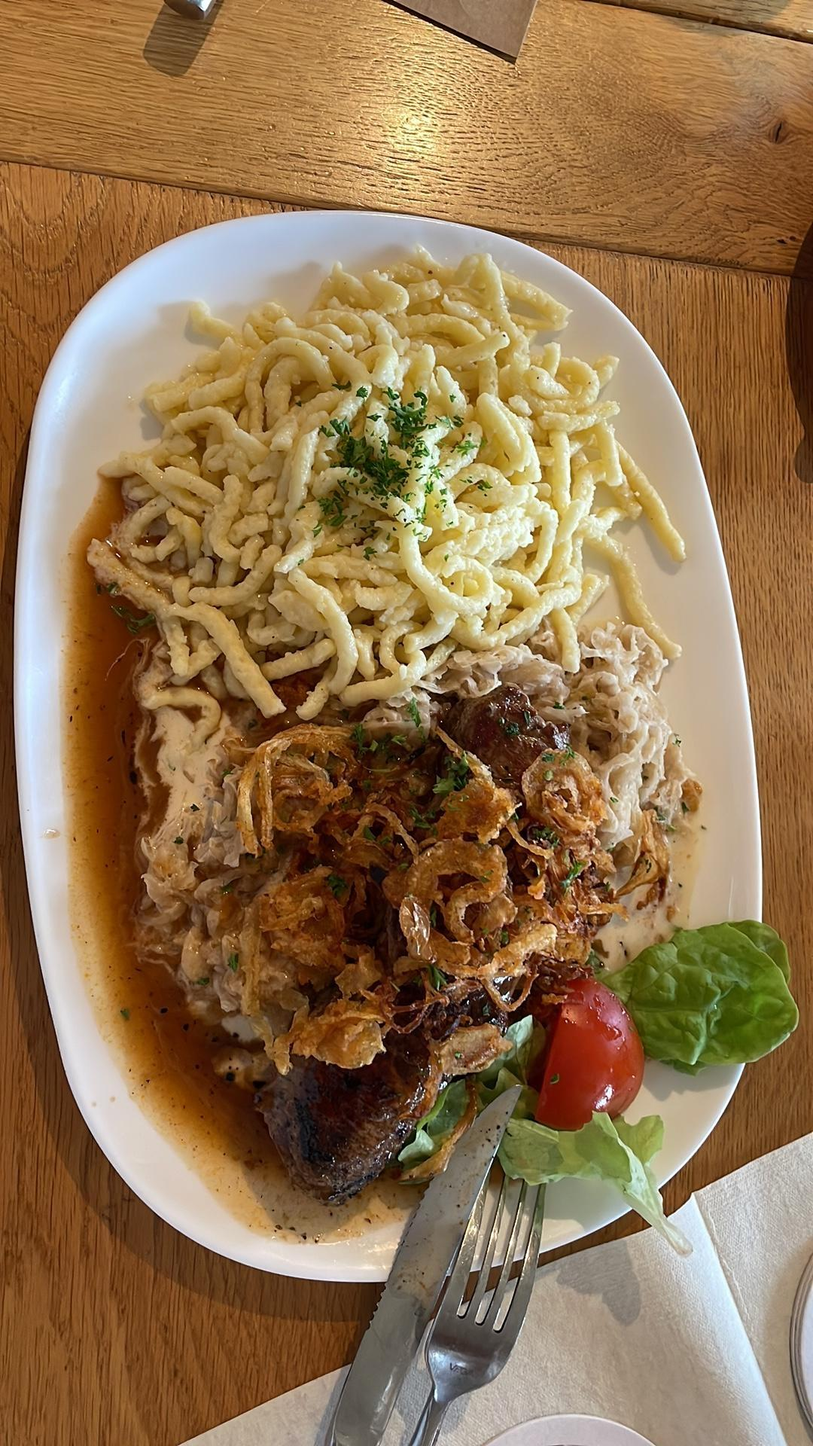lettuce: (492, 1117, 693, 1260), (632, 909, 805, 1074)
tomato: (537, 964, 647, 1124)
